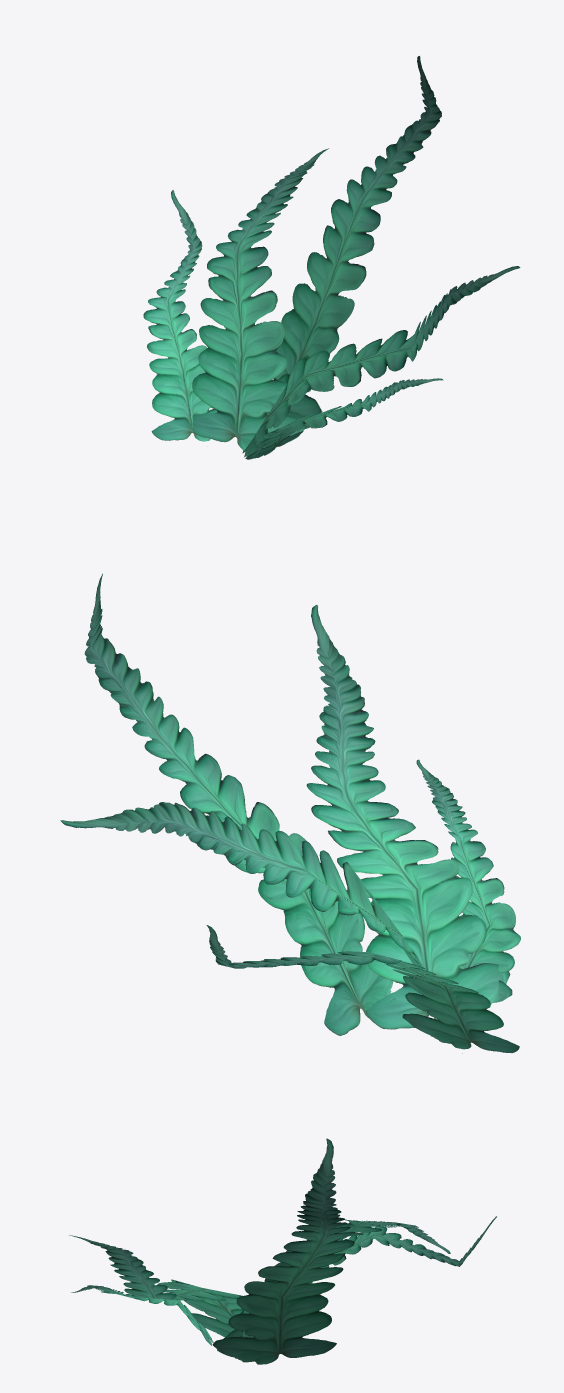
Rendered from pant11_3.FBX.
The picture shows the model from 3 angles, top to bottom: view 1: azimuth 30°, elevation 25°; view 2: azimuth 150°, elevation 25°; view 3: azimuth 270°, elevation 25°; orthographic projection. The views are drawn at different scales.
Visible parts, largest first — view 1: Plant8; view 2: Plant8; view 3: Plant8.
Part boxes in pixels (left/top/right/bottom): Plant8: left=143, top=56, right=520, bottom=459; Plant8: left=60, top=573, right=520, bottom=1053; Plant8: left=69, top=1138, right=496, bottom=1364.
Bounding box in the file's own units: 0.1899 × 0.1821 × 0.2538.
